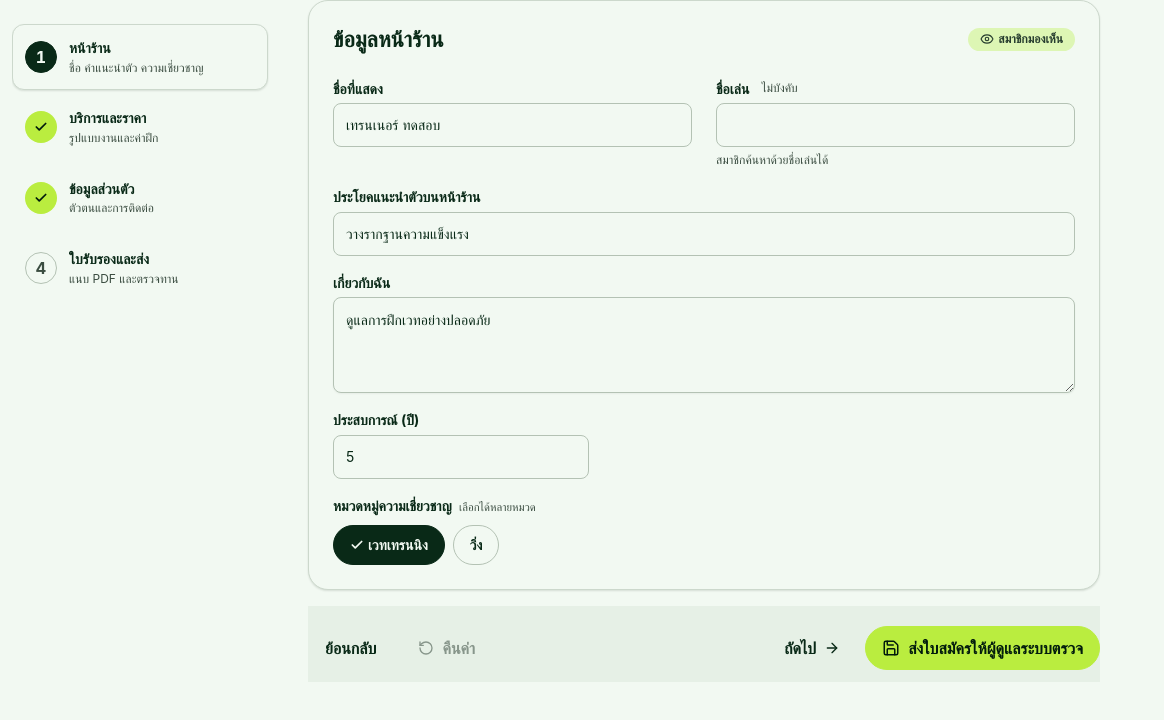
it: TrainerApplyForm › still demands a new certificate after a rejection
The width and height of the screenshot is (1164, 720).
Expected: the field labelled "ชื่อที่แสดง" holds "เทรนเนอร์ ทดสอบ", [333,103,692,147]
Click the button "ส่งใบสมัครให้ผู้ดูแลระบบตรวจ". click: [983, 648]
box: [865,626,1100,670]
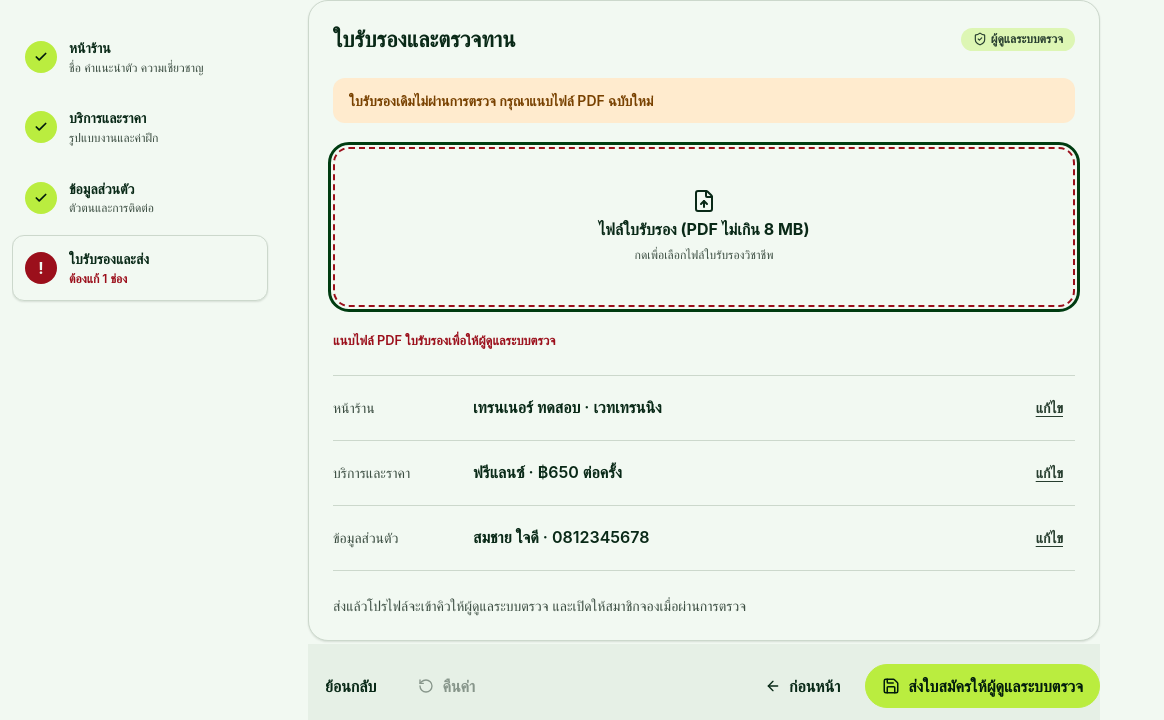
Expected: the text "แนบไฟล์ PDF ใบรับรองเพื่อให้ผู้ดูแลระบบตรวจ" is shown, [333,333,556,348]
